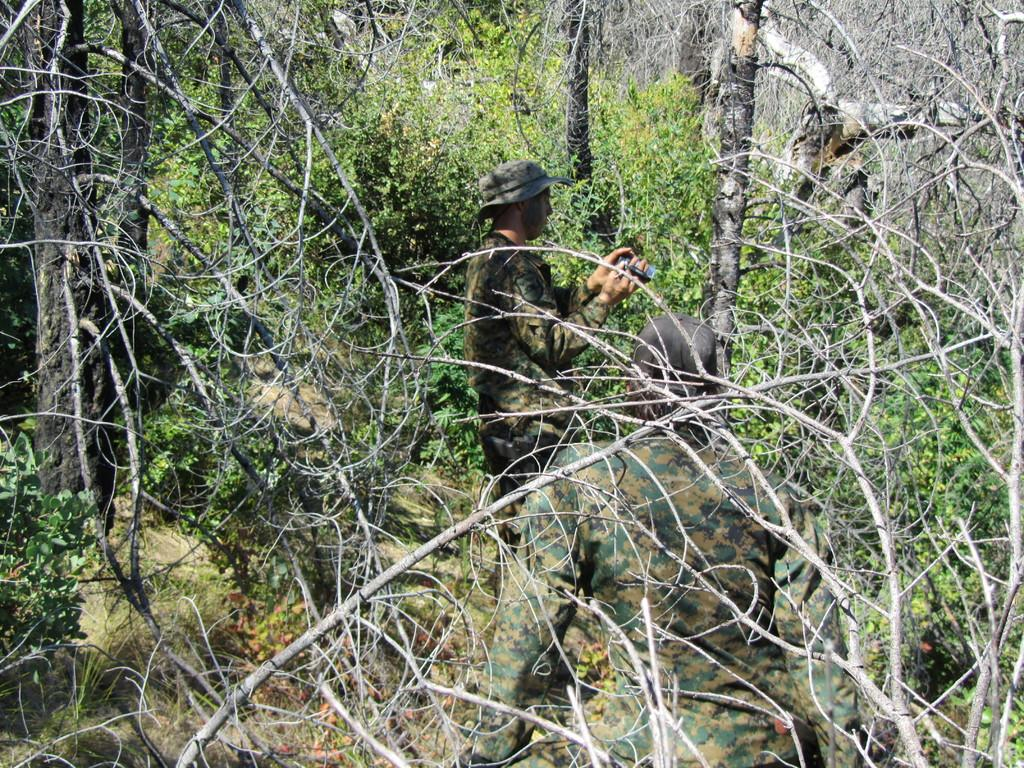Hat: (478, 154, 578, 226)
